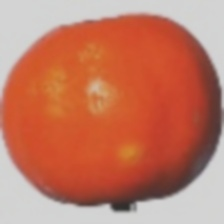tangerine: (18, 30, 211, 173)
